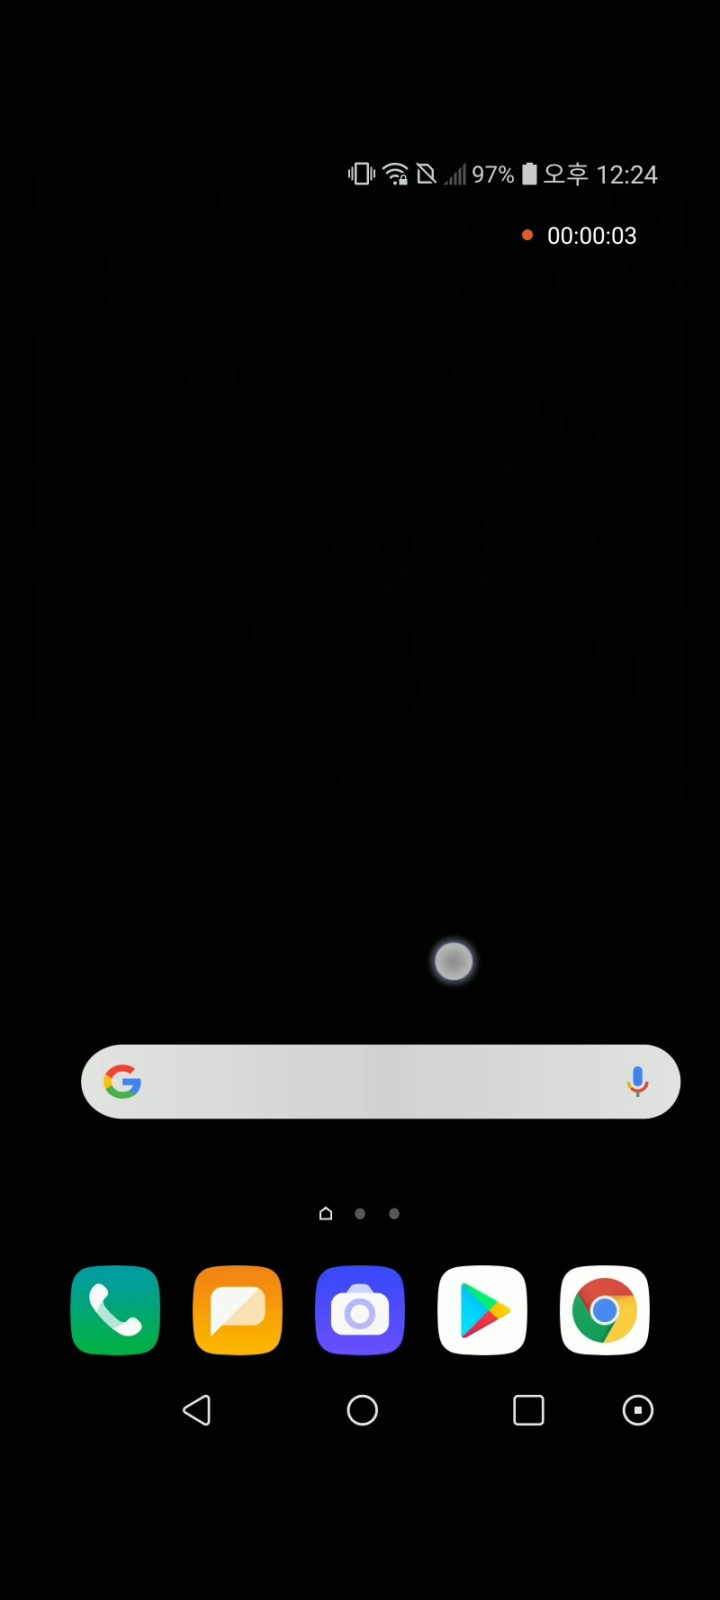Cursor: (430, 940, 475, 985)
